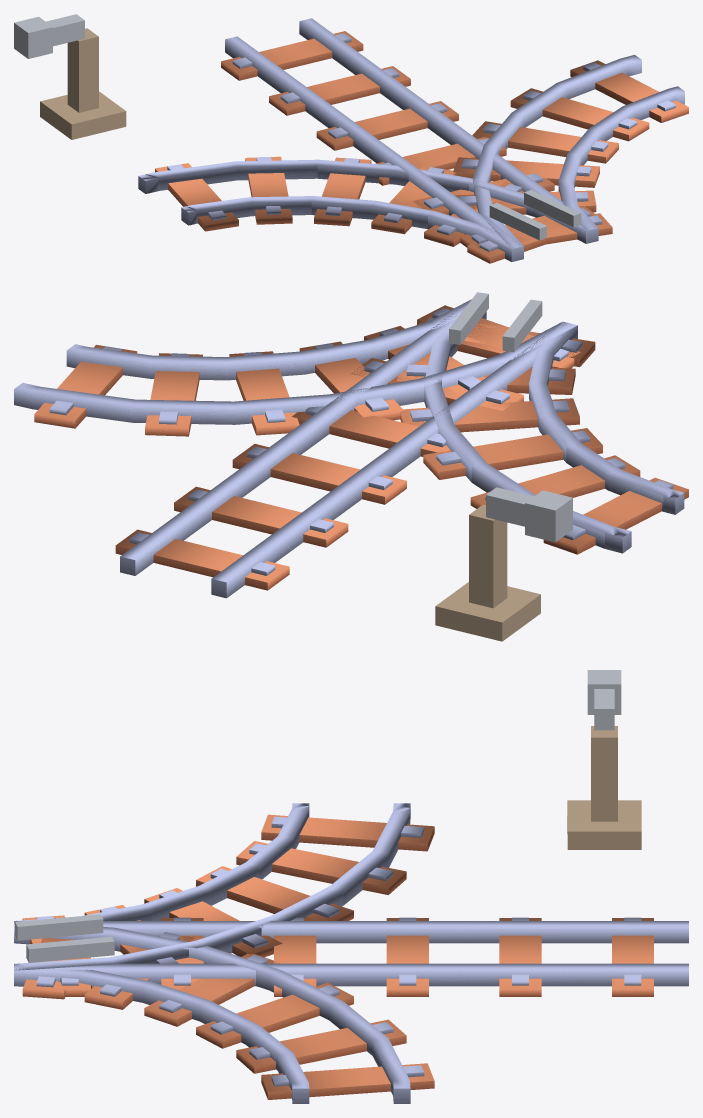
The model's file is switch-3way.glb.
3 views of the same model, one above another, from view 1: azimuth 30°, elevation 25°; view 2: azimuth 150°, elevation 25°; view 3: azimuth 270°, elevation 25° (orthographic). The views are drawn at different scales.
Visible parts, largest first — view 1: switch_through, switch_diverge_west, switch_diverge_east, switch_lever_base, switch_lever_arm, switch_blade_1, switch_blade_-1; view 2: switch_through, switch_diverge_east, switch_diverge_west, switch_lever_base, switch_lever_arm, switch_blade_-1, switch_blade_1; view 3: switch_through, switch_diverge_east, switch_diverge_west, switch_lever_base, switch_lever_arm, switch_blade_1, switch_blade_-1.
Boxes of the visible parts, box(x1,y1,x2,y2) form: switch_through: box(221, 18, 599, 261); switch_diverge_west: box(138, 156, 595, 263); switch_diverge_east: box(453, 55, 688, 248); switch_lever_base: box(40, 28, 126, 139); switch_lever_arm: box(14, 14, 84, 58); switch_blade_1: box(524, 189, 581, 227); switch_blade_-1: box(489, 202, 546, 240); switch_through: box(115, 300, 576, 598); switch_diverge_east: box(14, 299, 580, 436); switch_diverge_west: box(397, 311, 688, 554); switch_lever_base: box(435, 504, 540, 641); switch_lever_arm: box(486, 487, 572, 542); switch_blade_-1: box(502, 299, 542, 352); switch_blade_1: box(449, 292, 488, 344); switch_through: box(14, 917, 688, 996); switch_diverge_east: box(14, 921, 434, 1103); switch_diverge_west: box(14, 803, 434, 988); switch_lever_base: box(567, 726, 641, 849); switch_lever_arm: box(587, 670, 621, 730); switch_blade_1: box(26, 936, 114, 962); switch_blade_-1: box(15, 914, 103, 940).
Size of the model in its own units: 4.28 by 0.84 by 4.
5 materials, 3 textured.
